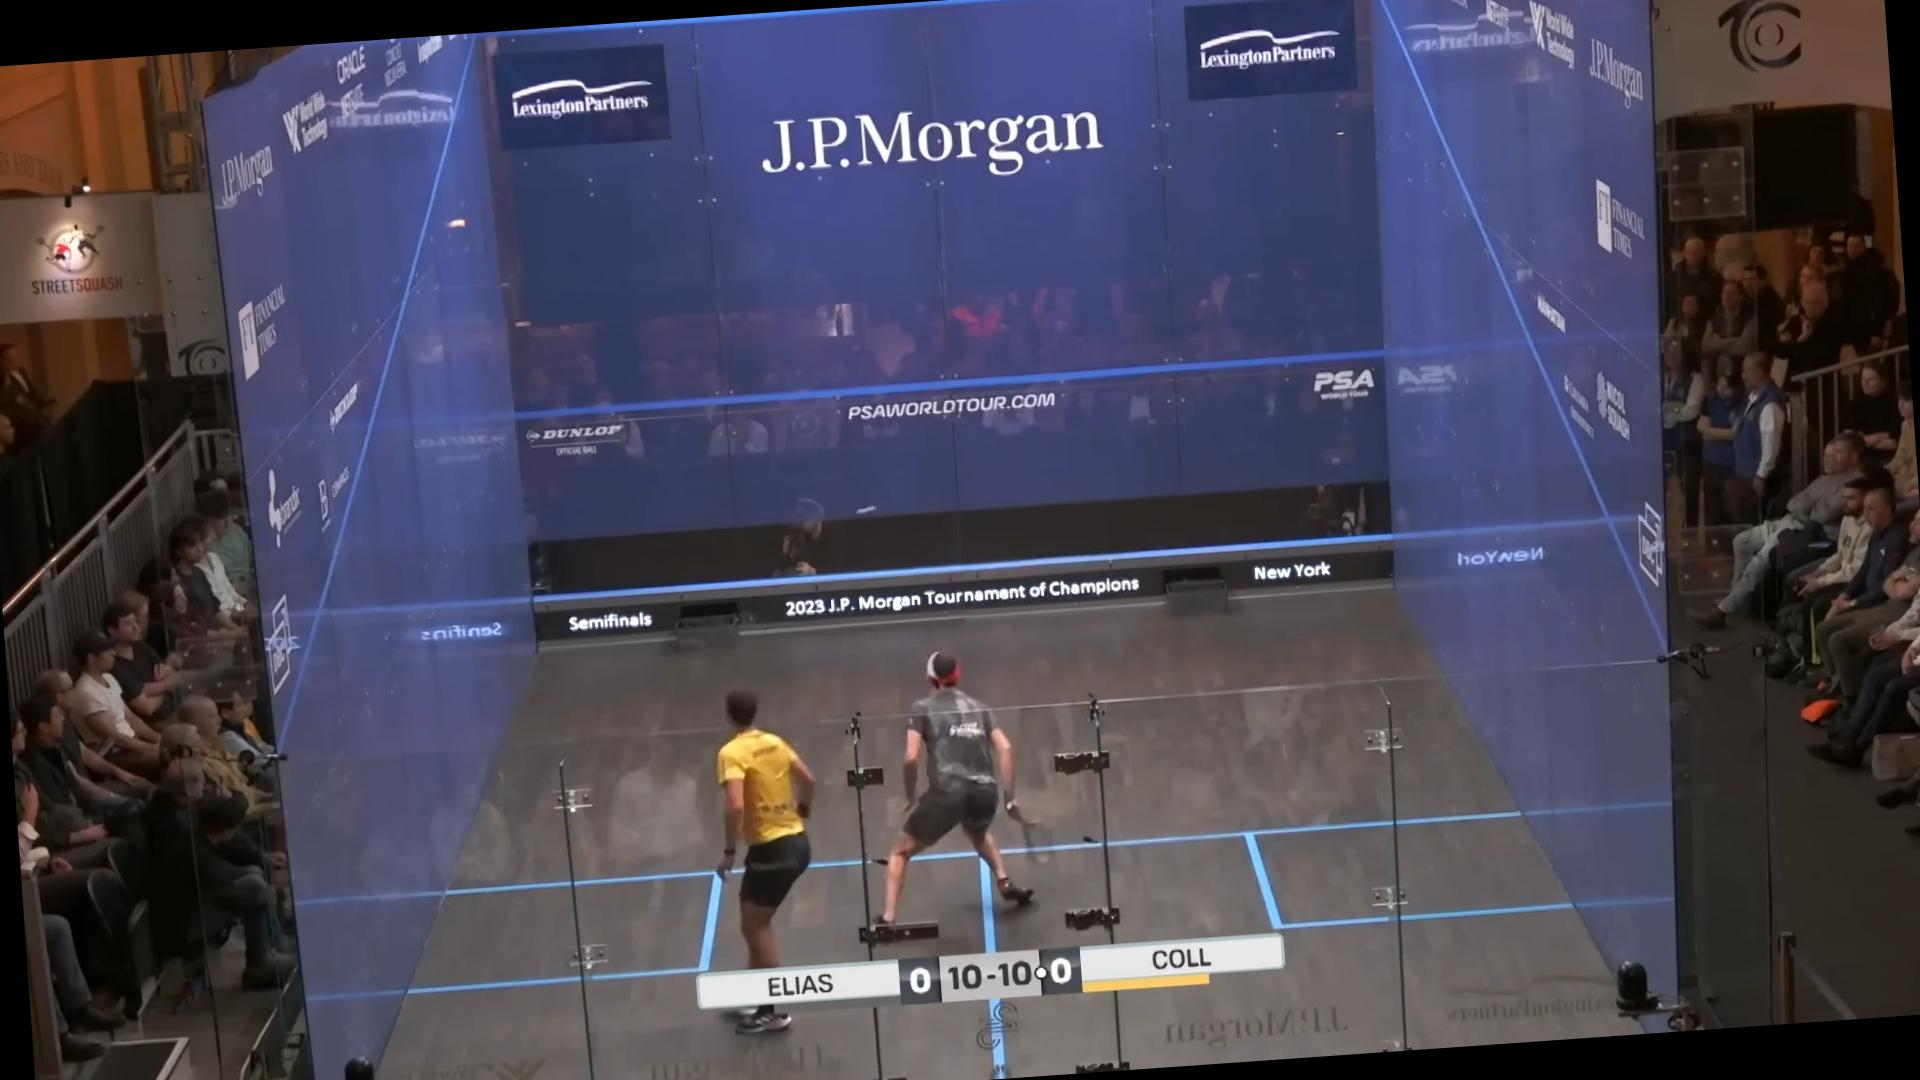Racket: (1009, 794, 1068, 874)
